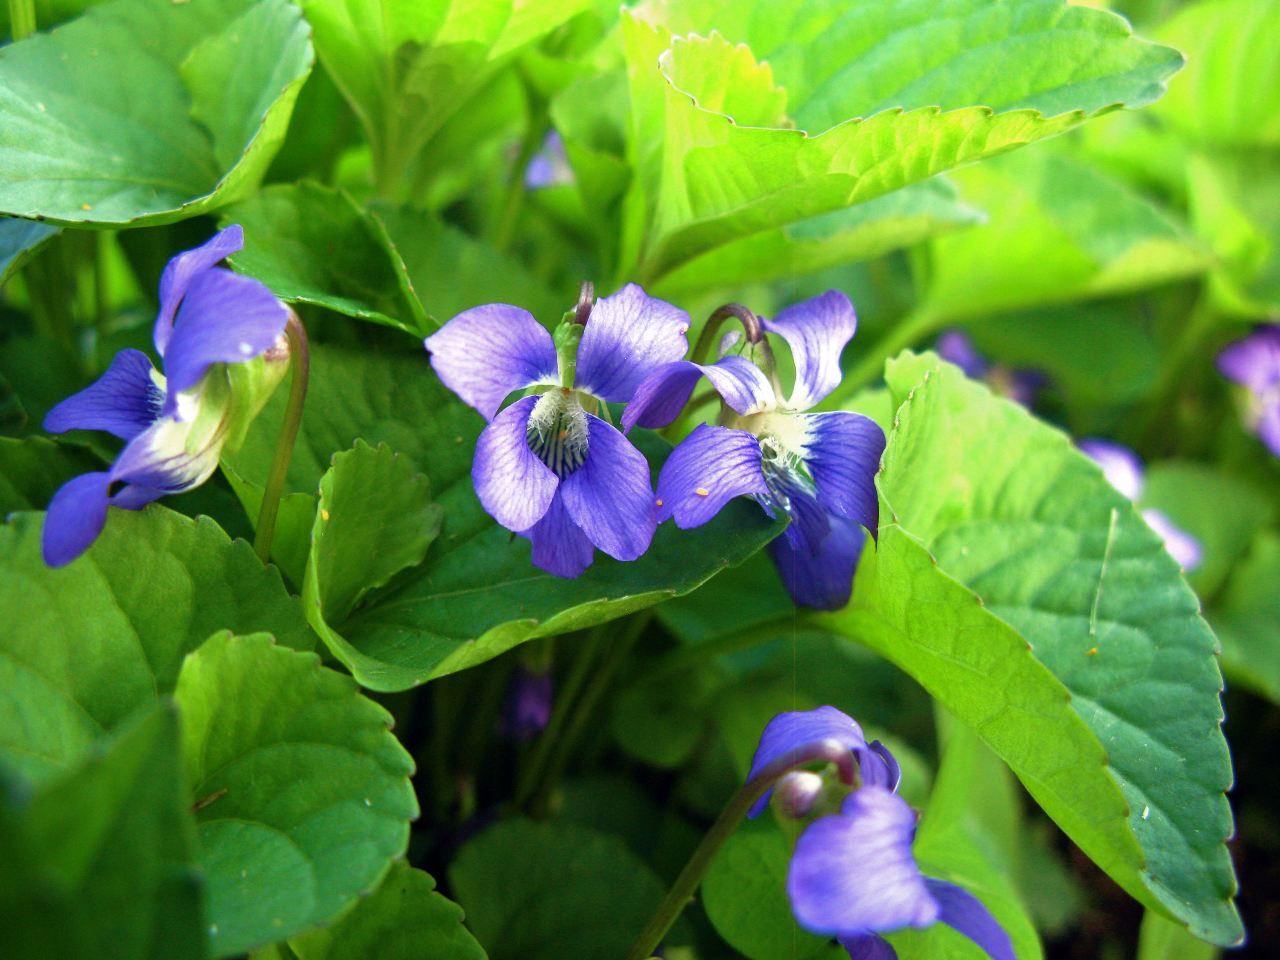violet: (725, 694, 1032, 960), (61, 226, 298, 566), (424, 267, 655, 580), (657, 282, 889, 566)
